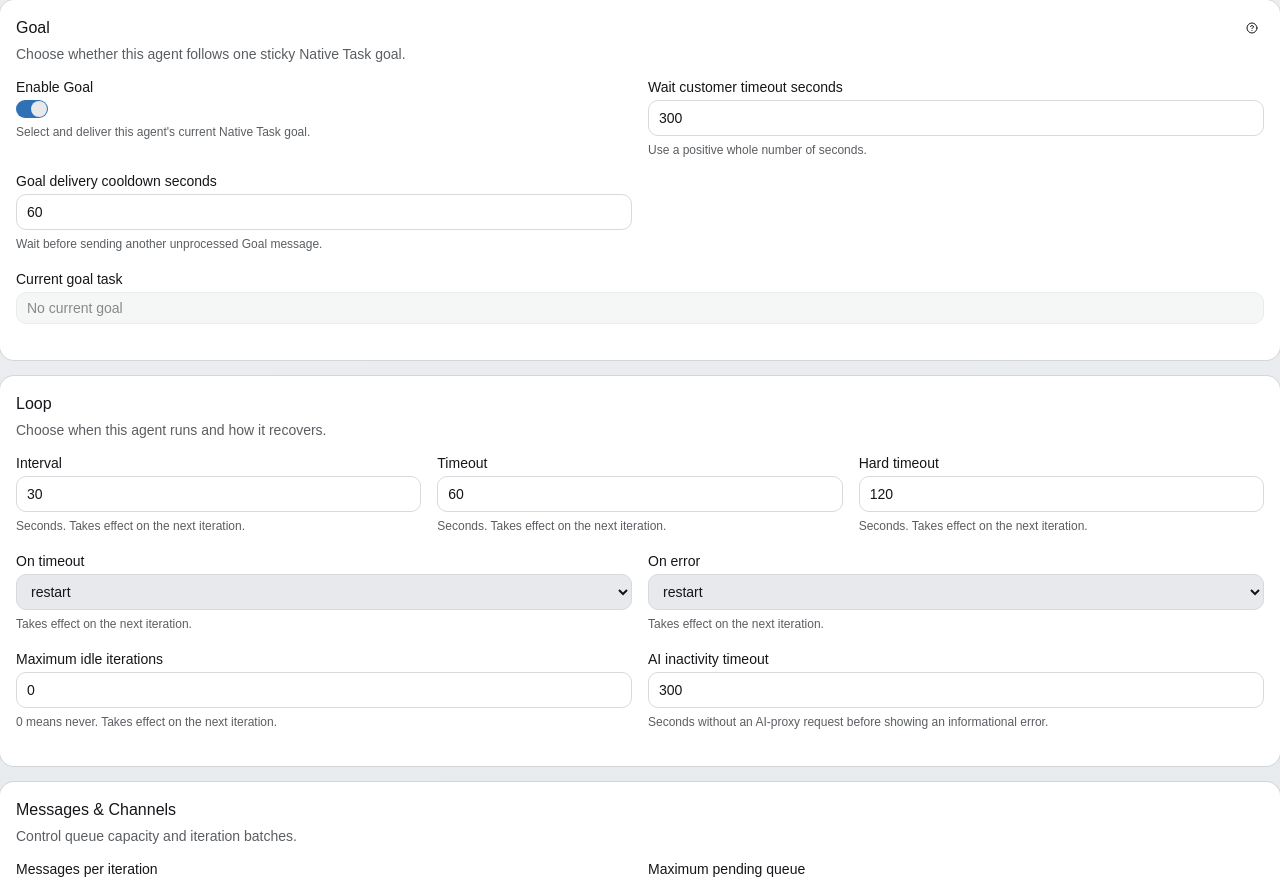
it: rejects Goal delivery cooldown 0 before saving
The width and height of the screenshot is (1280, 877).
Replace the text in the number field labelled "Goal delivery cooldown seconds" with "0": (324, 212) x1=16 y1=194 x2=632 y2=230
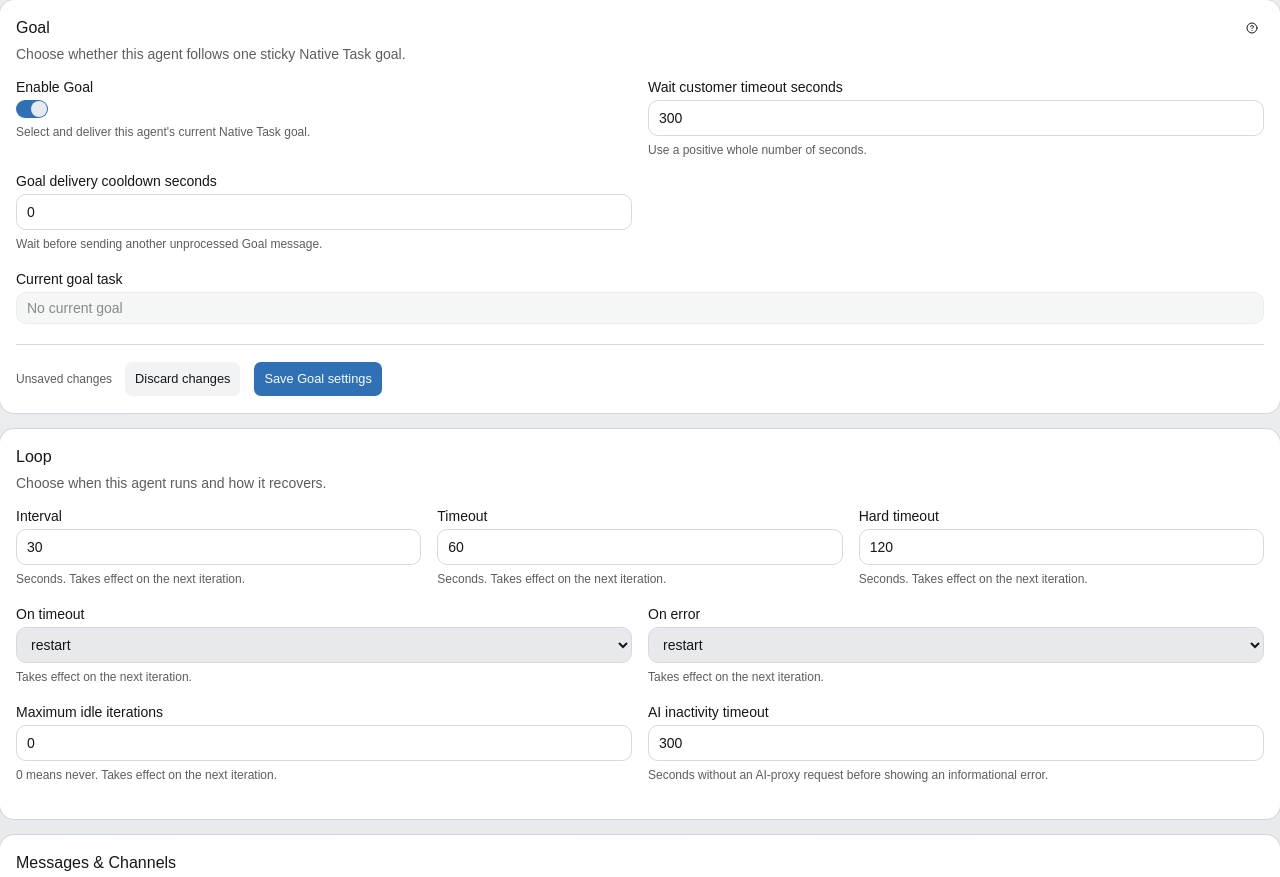
Click the button "Save Goal settings": (318, 379) x1=253 y1=361 x2=383 y2=397
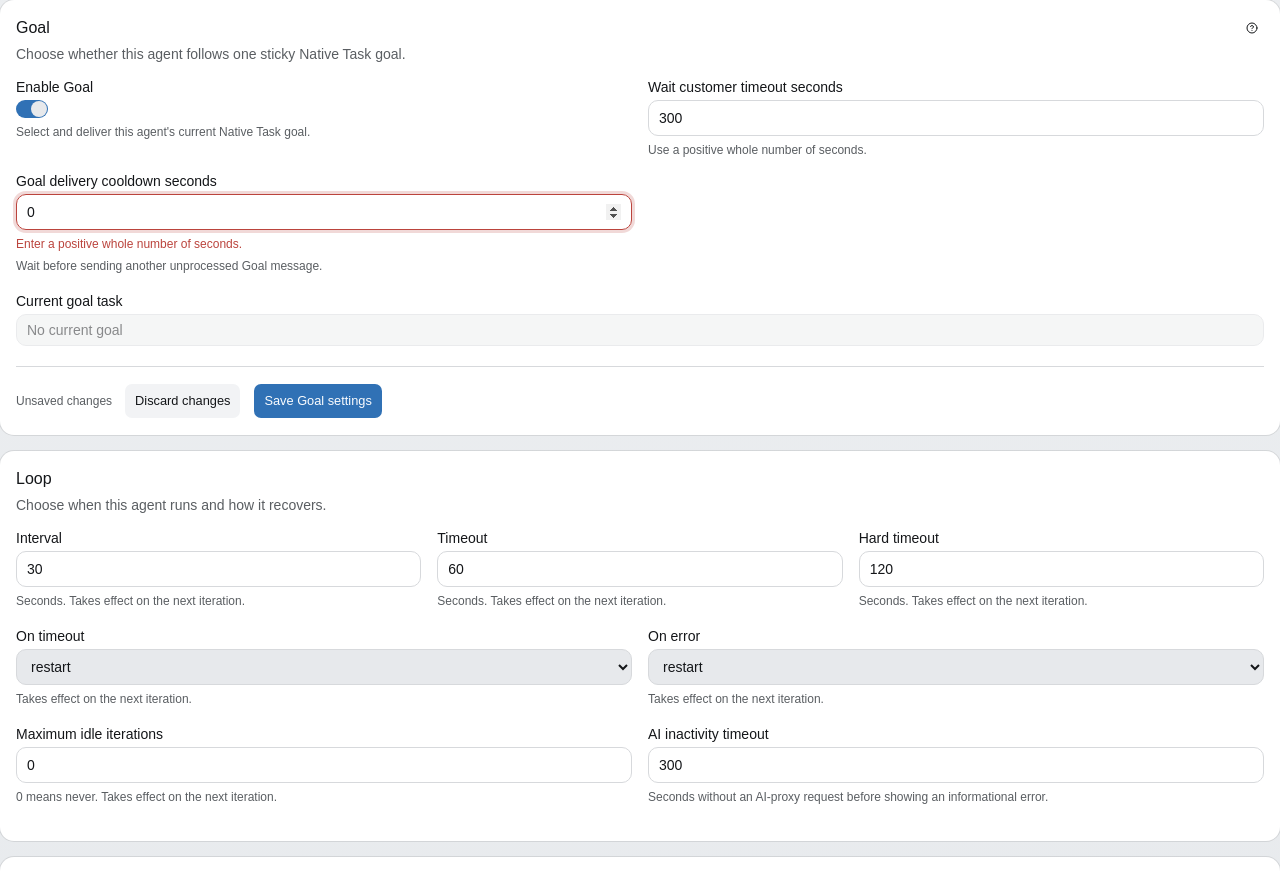
Expected: the message "Enter a positive whole number of seconds." is shown, x1=16 y1=237 x2=242 y2=251
